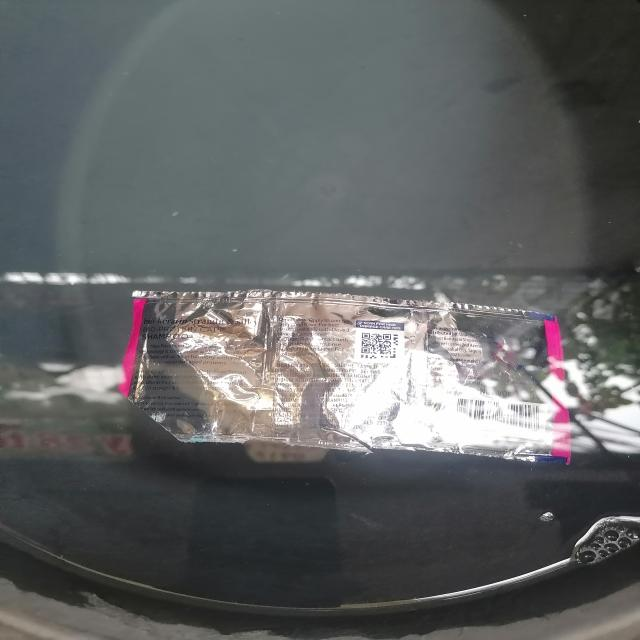Plastic Wrapper: (120, 289, 572, 463)
